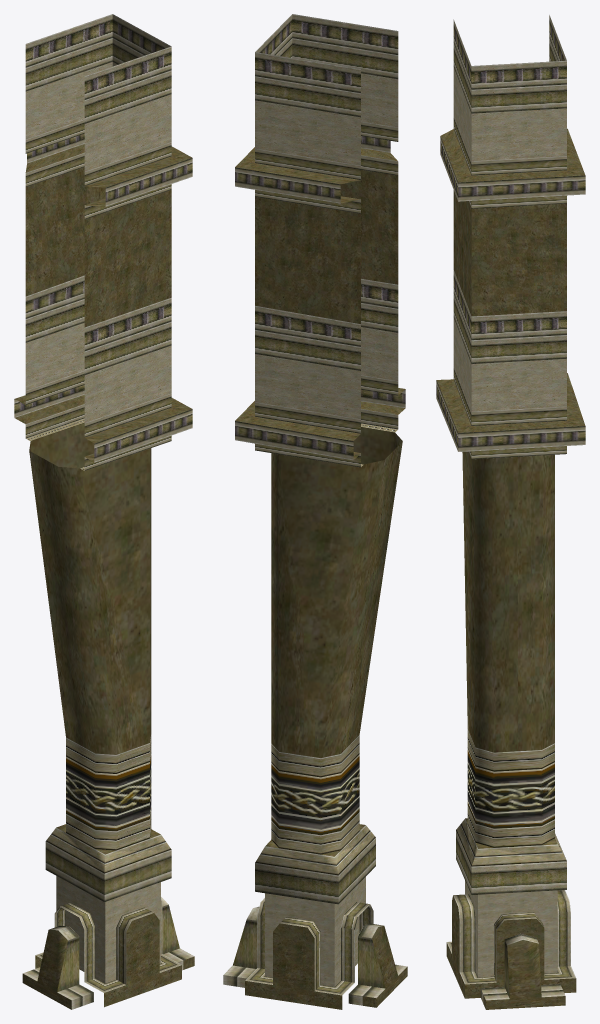
Rendered from CH09_SMAUG_PLAYSURFACE_LAIR117.fbx.
3 views of the same model, side by side, from view 1: azimuth 30°, elevation 25°; view 2: azimuth 150°, elevation 25°; view 3: azimuth 270°, elevation 25° (orthographic).
Visible parts, largest first — view 1: CH09_SMAUG_PLAYSURFACE_LAIR117; view 2: CH09_SMAUG_PLAYSURFACE_LAIR117; view 3: CH09_SMAUG_PLAYSURFACE_LAIR117.
Boxes of the visible parts, x1,y1,x2,y2 form: CH09_SMAUG_PLAYSURFACE_LAIR117: (14,14,194,1009); CH09_SMAUG_PLAYSURFACE_LAIR117: (223,14,407,1009); CH09_SMAUG_PLAYSURFACE_LAIR117: (436,15,585,1009).
Size of the model in its own units: 44811 by 271667 by 39486.
Materials: 7 (7 with a texture image).
